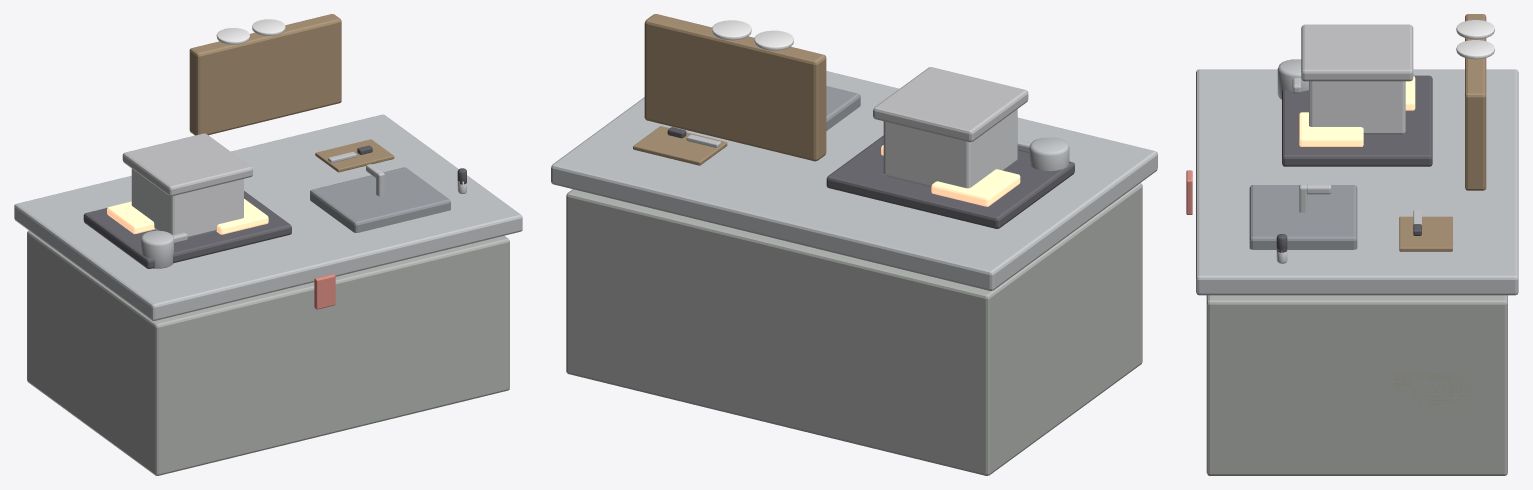
Rendered from кухня.glb.
The picture shows the model from 3 angles, left to right: view 1: azimuth 30°, elevation 25°; view 2: azimuth 150°, elevation 25°; view 3: azimuth 270°, elevation 25°; orthographic projection. The views are drawn at different scales.
Parts seen in each view (by area): view 1: кухня; view 2: кухня; view 3: кухня.
Part boxes in pixels (left/top/right/bottom): кухня: left=14, top=14, right=522, bottom=475; кухня: left=551, top=14, right=1157, bottom=475; кухня: left=1186, top=14, right=1518, bottom=475.
Bounding box in the file's own units: 2.3 × 1.84 × 1.54.
